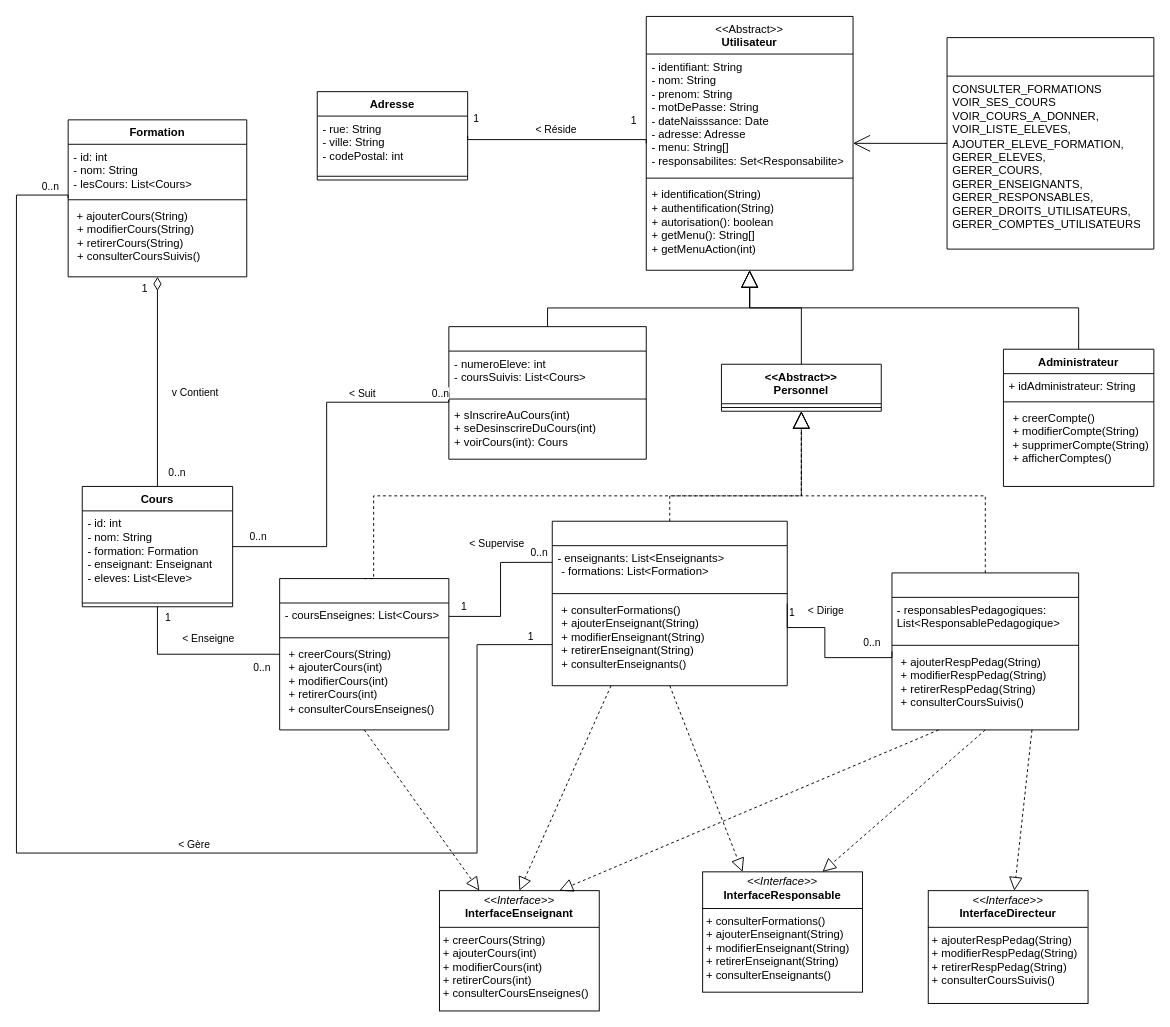
Some shapes in this 1170 by 1027 pixel diagram are drawn without their labels. Here are the shapes that lost their labels. From the top down, the box of each, then its label:
(946, 37, 1154, 249): <<Numeration>> Responsabilite
(448, 326, 646, 459): Elève
(551, 520, 787, 686): ResponsablePedagogique
(279, 578, 449, 730): Enseignant
(891, 572, 1079, 730): Directeur
